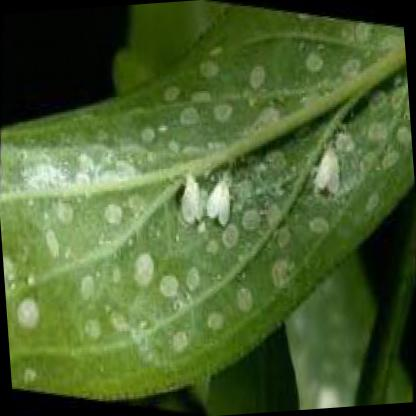whitefly: (314, 146, 341, 194), (206, 176, 229, 228), (183, 178, 201, 228)
